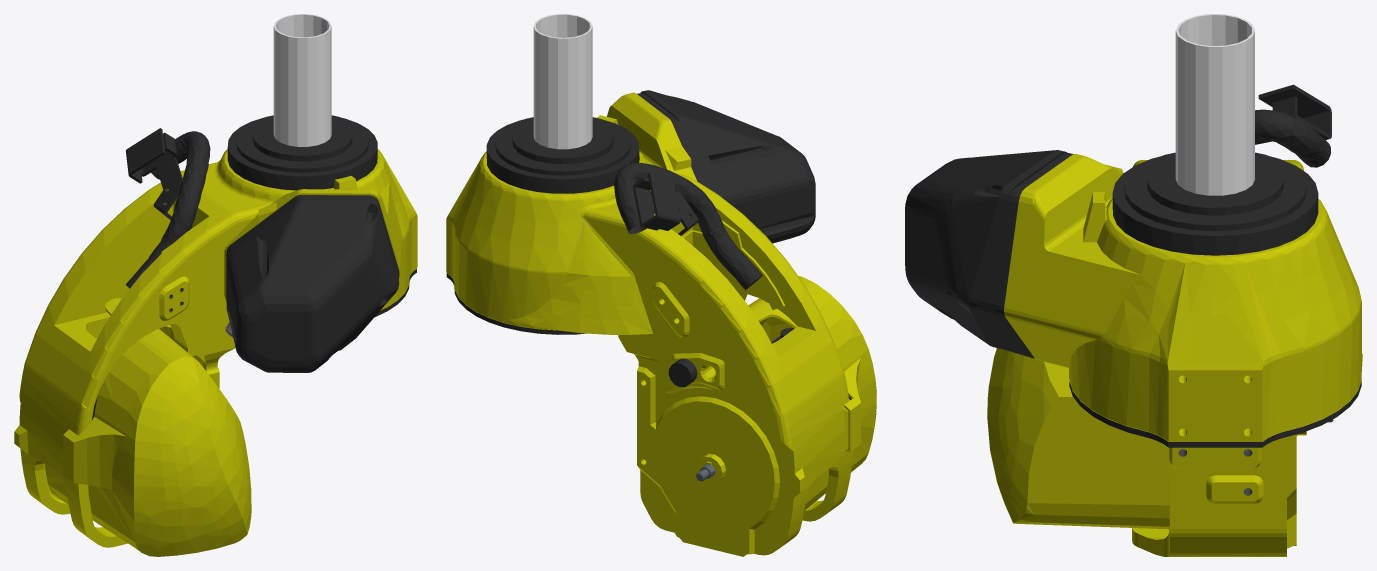
The picture shows the model from 3 angles, left to right: view 1: azimuth 30°, elevation 25°; view 2: azimuth 150°, elevation 25°; view 3: azimuth 270°, elevation 25°; orthographic projection. The views are drawn at different scales.
Visible parts, largest first — view 1: node; view 2: node; view 3: node.
Part boxes in pixels (left/top/right/bottom): node: left=14, top=14, right=417, bottom=556; node: left=446, top=14, right=876, bottom=556; node: left=905, top=14, right=1362, bottom=556.
Size of the model in its own units: 435 by 521 by 352.
